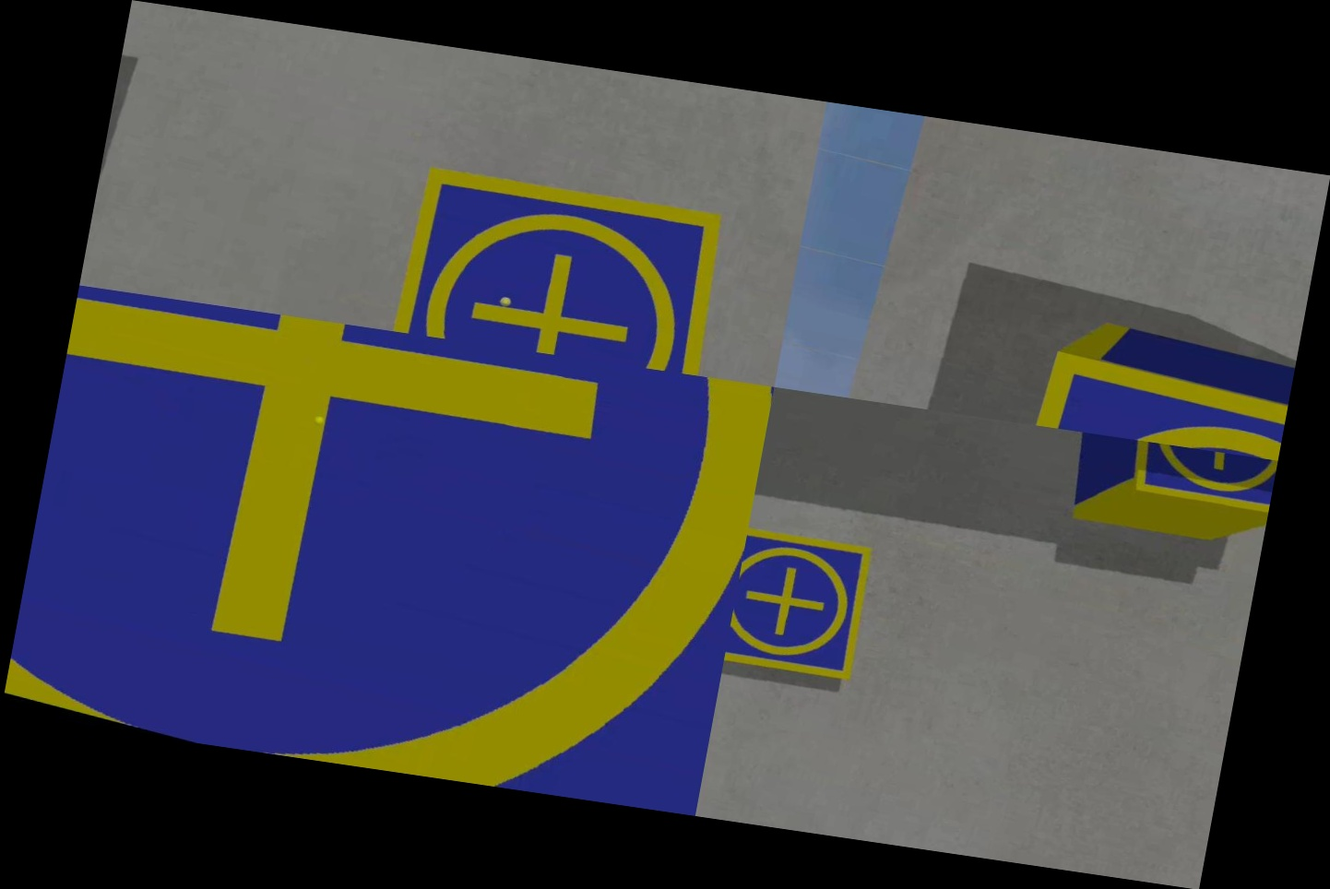small_base: (0, 285, 774, 815), (361, 136, 775, 382), (719, 509, 899, 704), (1095, 436, 1277, 527)
